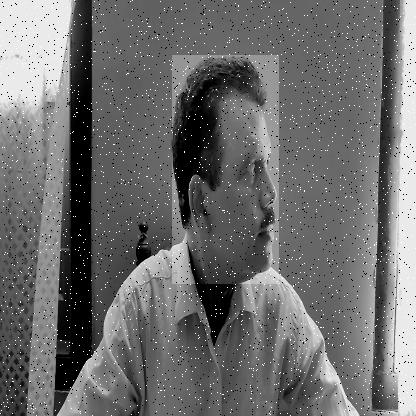Distracted: (172, 55, 279, 284)
